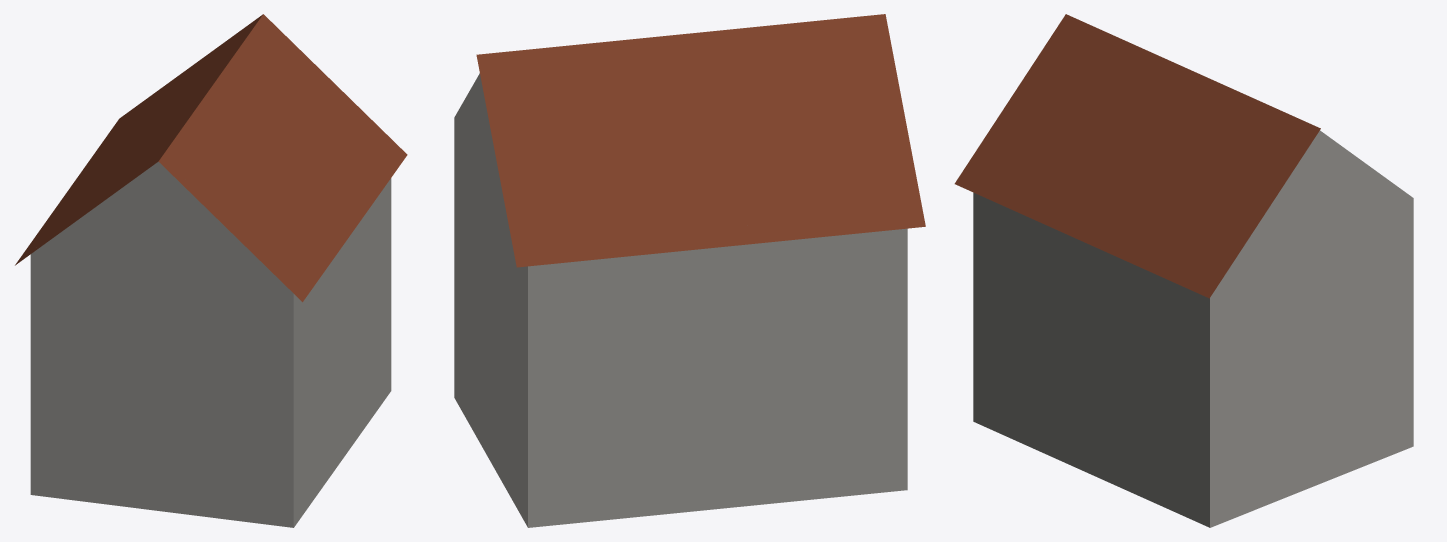
The picture shows the model from 3 angles, left to right: view 1: azimuth 30°, elevation 25°; view 2: azimuth 150°, elevation 25°; view 3: azimuth 270°, elevation 25°; orthographic projection. The views are drawn at different scales.
Visible parts, largest first — view 1: buildings; view 2: buildings; view 3: buildings.
Part boxes in pixels (x1,y1,x2,y2): buildings: (15, 14, 407, 527); buildings: (454, 14, 925, 527); buildings: (954, 14, 1413, 527).
Size of the model in its own units: 10.73 by 8.91 by 10.64.
